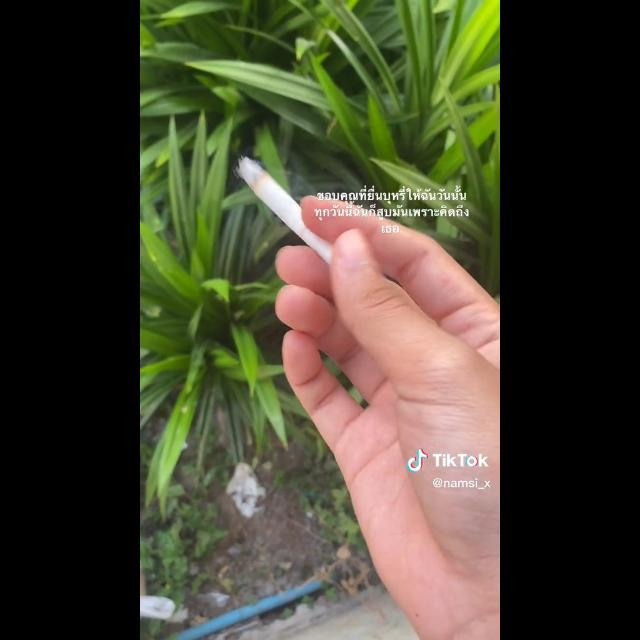rokok: (218, 146, 356, 274)
